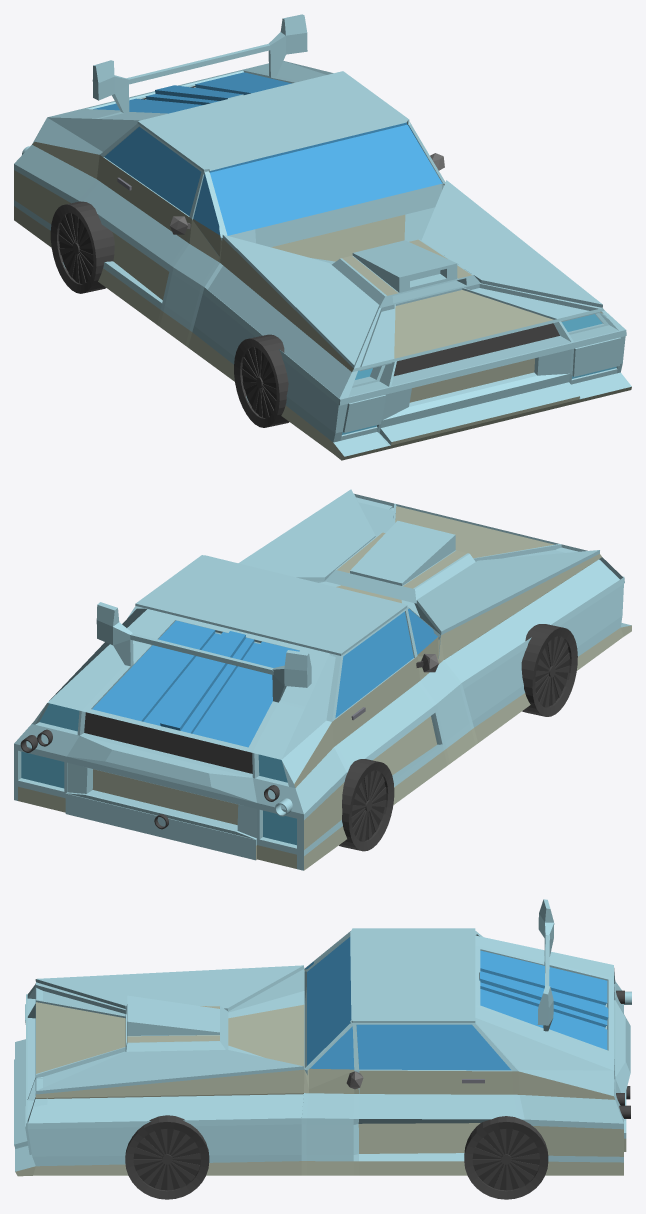
File: Car.fbx
3 renders of one model, top to bottom at view 1: azimuth 30°, elevation 25°; view 2: azimuth 150°, elevation 25°; view 3: azimuth 270°, elevation 25°, orthographic. The views are drawn at different scales.
Visible parts, largest first — view 1: Cube; view 2: Cube; view 3: Cube.
Part boxes in pixels (box(x1,y1,x2,y2)): Cube: box(14, 14, 631, 460); Cube: box(14, 489, 631, 870); Cube: box(14, 899, 631, 1199).
Size of the model in its own units: 527 by 334 by 1012.
